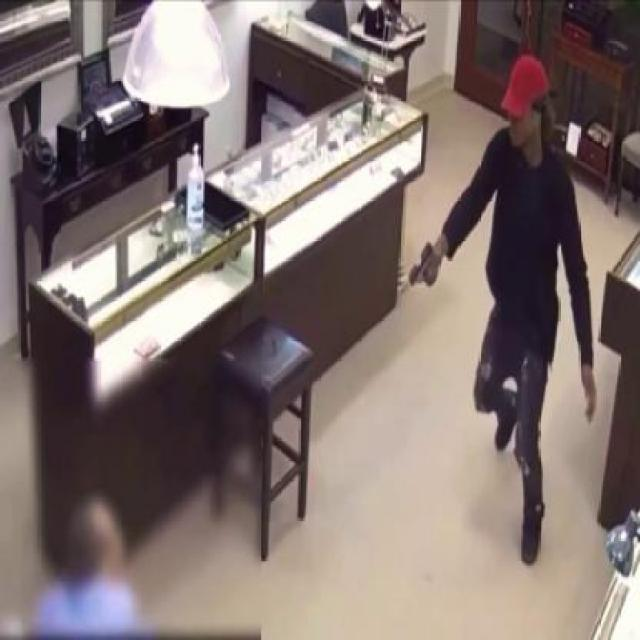weapon: (402, 240, 444, 298)
